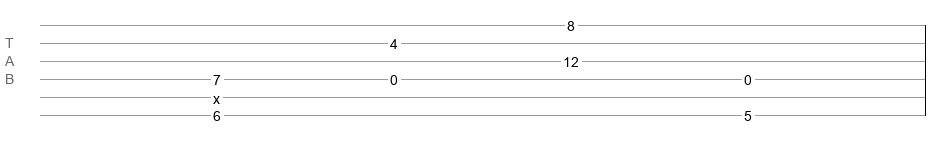0: (390, 72, 398, 82), (744, 72, 752, 82)
12: (563, 54, 579, 64)
4: (390, 36, 398, 46)
5: (744, 108, 752, 118)
6: (213, 108, 221, 118)
7: (213, 72, 221, 82)
8: (567, 18, 575, 28)
x: (213, 91, 220, 99)
